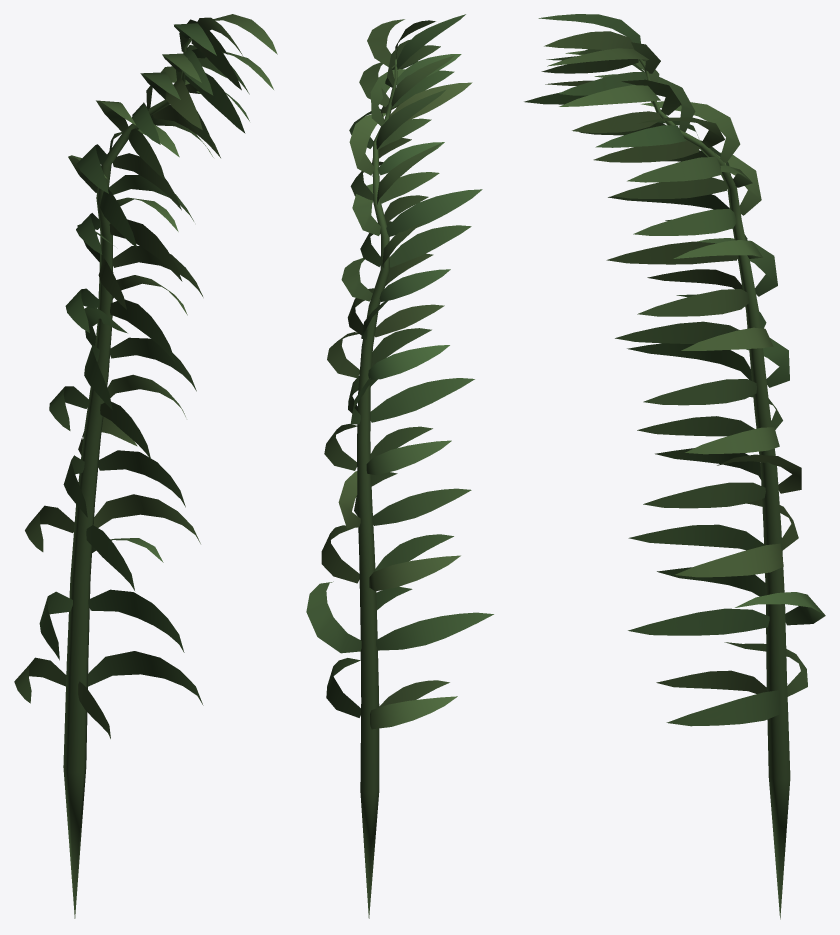
3 views of the same model, side by side, from view 1: azimuth 30°, elevation 25°; view 2: azimuth 150°, elevation 25°; view 3: azimuth 270°, elevation 25° (orthographic). The views are drawn at different scales.
Parts seen in each view (by area): view 1: base.780; view 2: base.780; view 3: base.780.
Boxes of the visible parts, x1,y1,x2,y2 form: base.780: [14, 14, 277, 918]; base.780: [306, 14, 493, 918]; base.780: [524, 14, 825, 919].
Size of the model in its own units: 0.0932 by 0.5 by 0.1505.
